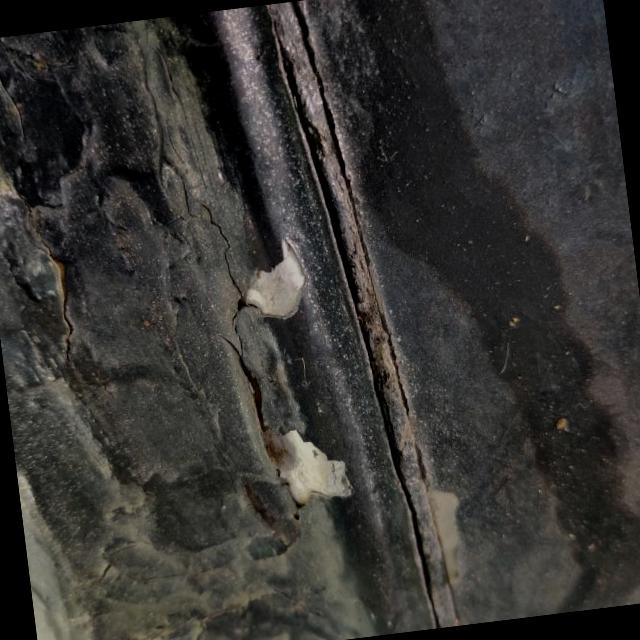crack: (152, 156, 372, 574), (0, 30, 98, 384)
